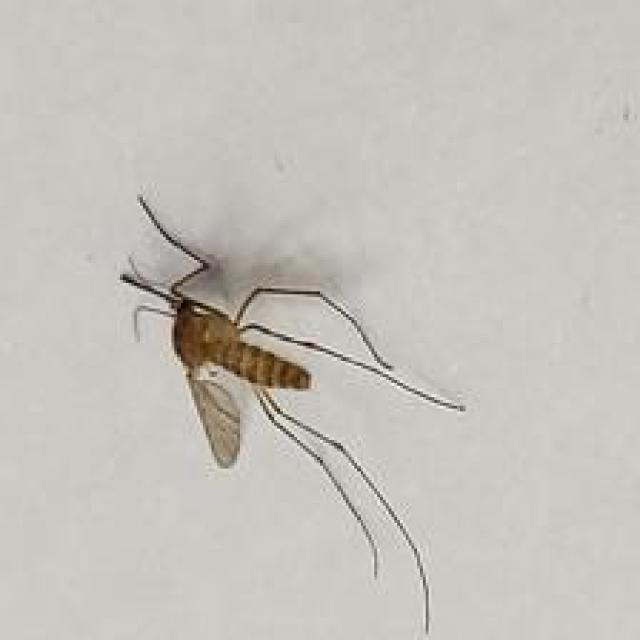Culex: (119, 191, 467, 640)
